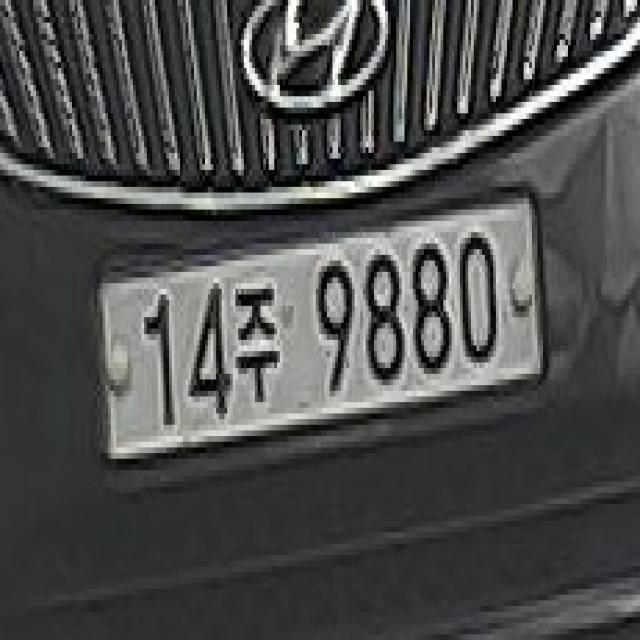0: (457, 221, 504, 374)
1: (138, 278, 183, 442)
4: (186, 278, 236, 436)
8: (360, 244, 407, 402), (410, 232, 454, 385)
9: (310, 244, 358, 414)
ju: (236, 272, 286, 425)
license_plate: (91, 181, 552, 493)
